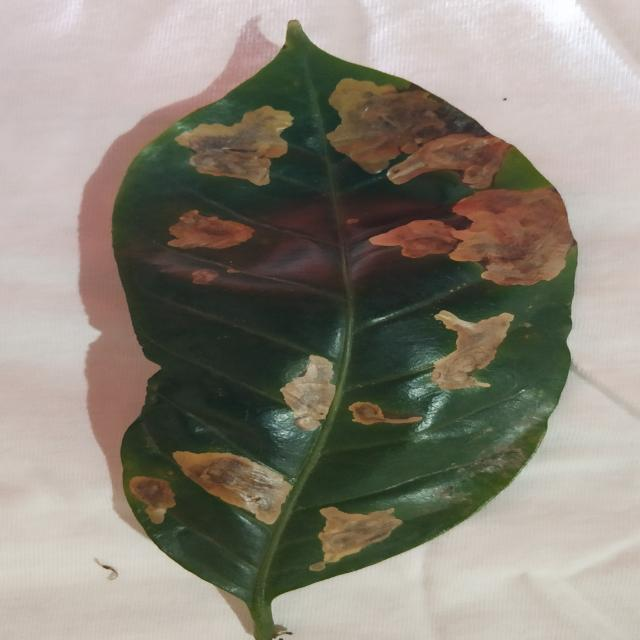Plaga-Minador: (110, 23, 579, 640)
